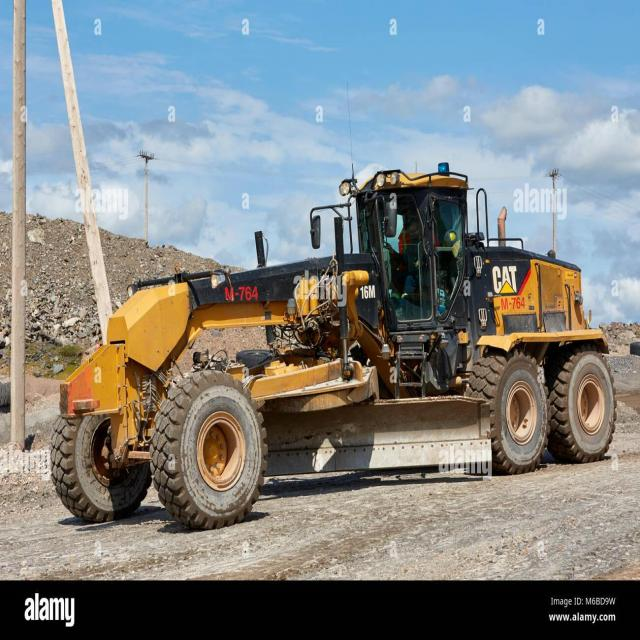Grader: (50, 142, 616, 549)
